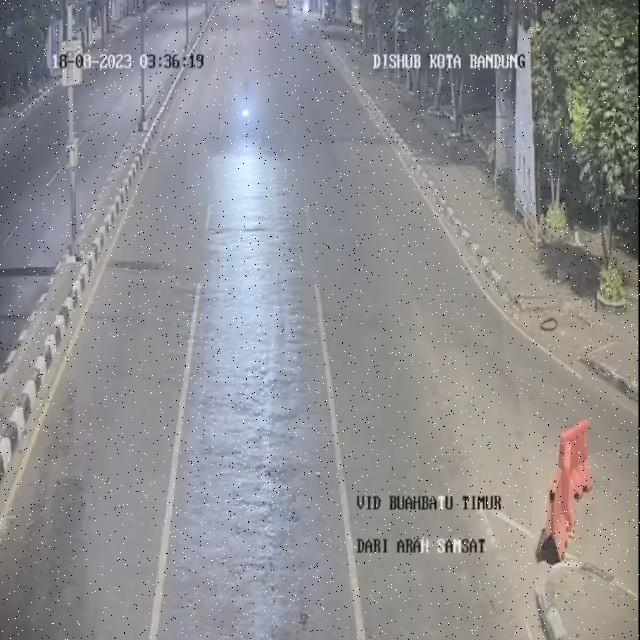motorcycle: (238, 64, 262, 148)
